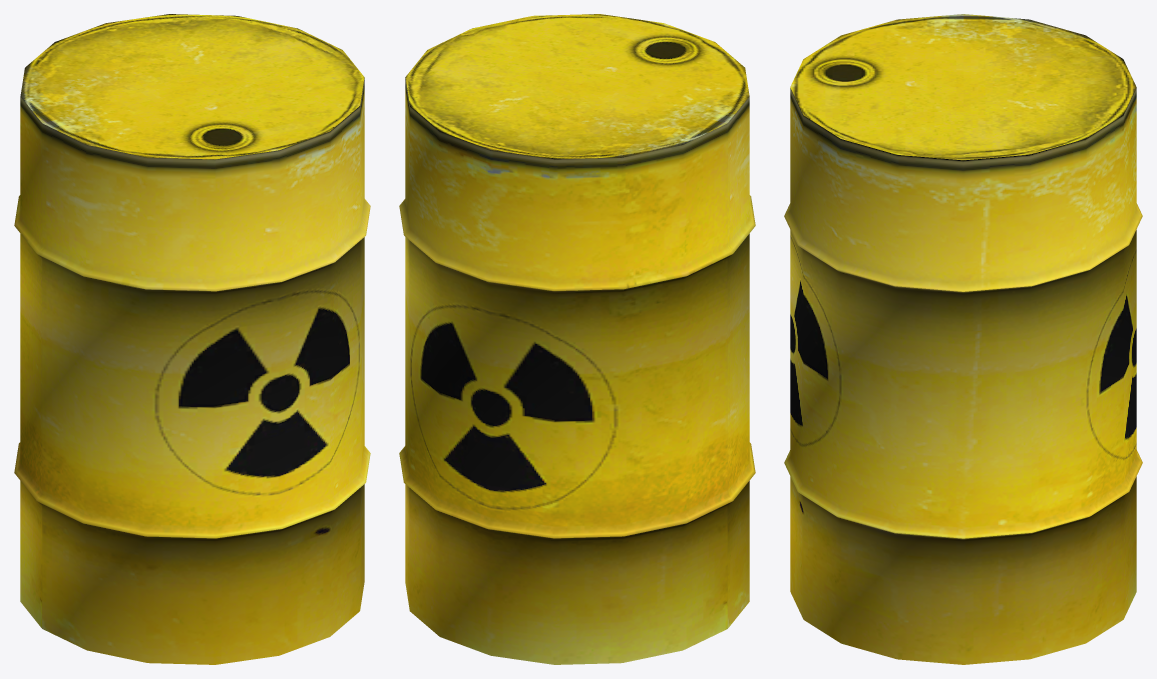
The model's file is explosive_barrel.dae.
3 renders of one model, left to right at view 1: azimuth 30°, elevation 25°; view 2: azimuth 150°, elevation 25°; view 3: azimuth 270°, elevation 25°, orthographic.
Visible parts, largest first — view 1: AcidBarrel3; view 2: AcidBarrel3; view 3: AcidBarrel3.
Part boxes in pixels (box(x1,y1,x2,y2)): AcidBarrel3: box(14, 14, 370, 664); AcidBarrel3: box(399, 14, 755, 664); AcidBarrel3: box(784, 14, 1142, 664).
Size of the model in its own units: 1.85 by 1.85 by 2.87.
Materials: 1 (1 with a texture image).
